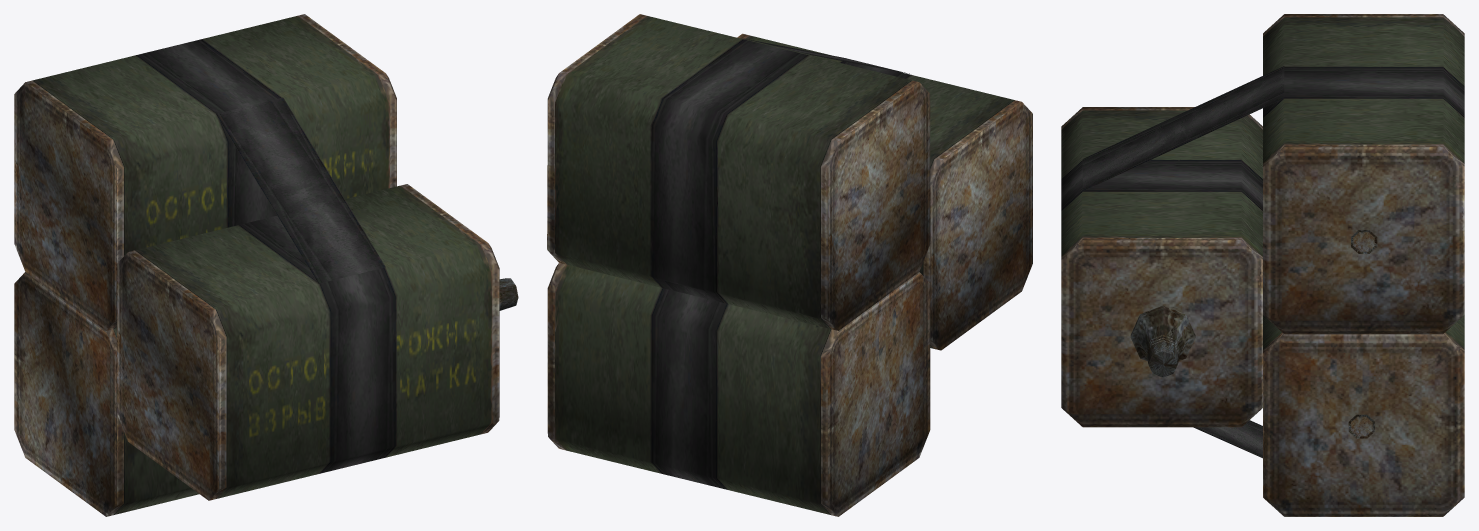
File: weapon_explosives_lod11.obj
The picture shows the model from 3 angles, left to right: view 1: azimuth 30°, elevation 25°; view 2: azimuth 150°, elevation 25°; view 3: azimuth 270°, elevation 25°; orthographic projection.
Parts seen in each view (by area): view 1: TomGroup_0; view 2: TomGroup_0; view 3: TomGroup_0.
Boxes of the visible parts, left/top/right/bottom form: TomGroup_0: left=14, top=14, right=518, bottom=516; TomGroup_0: left=547, top=14, right=1032, bottom=516; TomGroup_0: left=1061, top=14, right=1464, bottom=516.
Bounding box in the file's own units: 17.59 × 18.4 × 18.2.
Materials: 1 (1 with a texture image).
